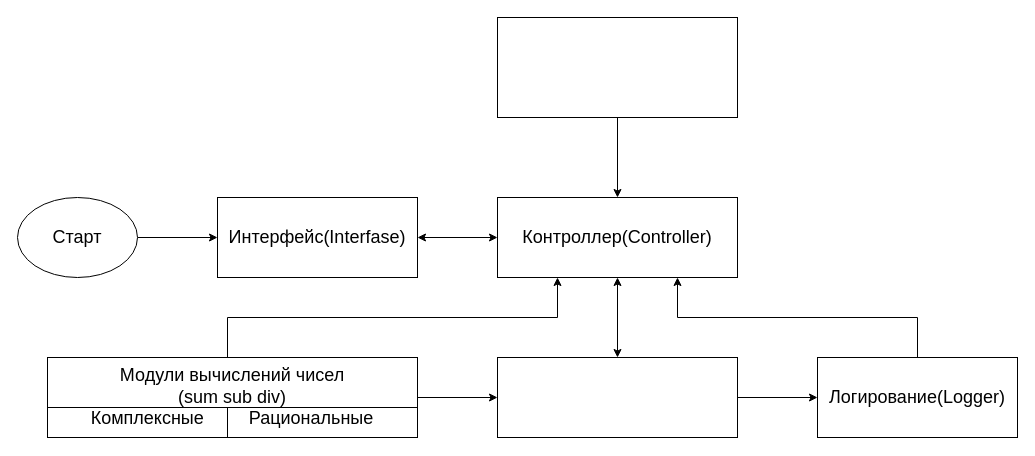
The diagram is 1035 pixels wide and 456 high, and some of its shapes have lost their labels. Here are the shapes that lost their labels. From the top down, the centre of each, then its label:
At point 617,67: "Ввод данных".
At point 617,397: "Вывод данных".
